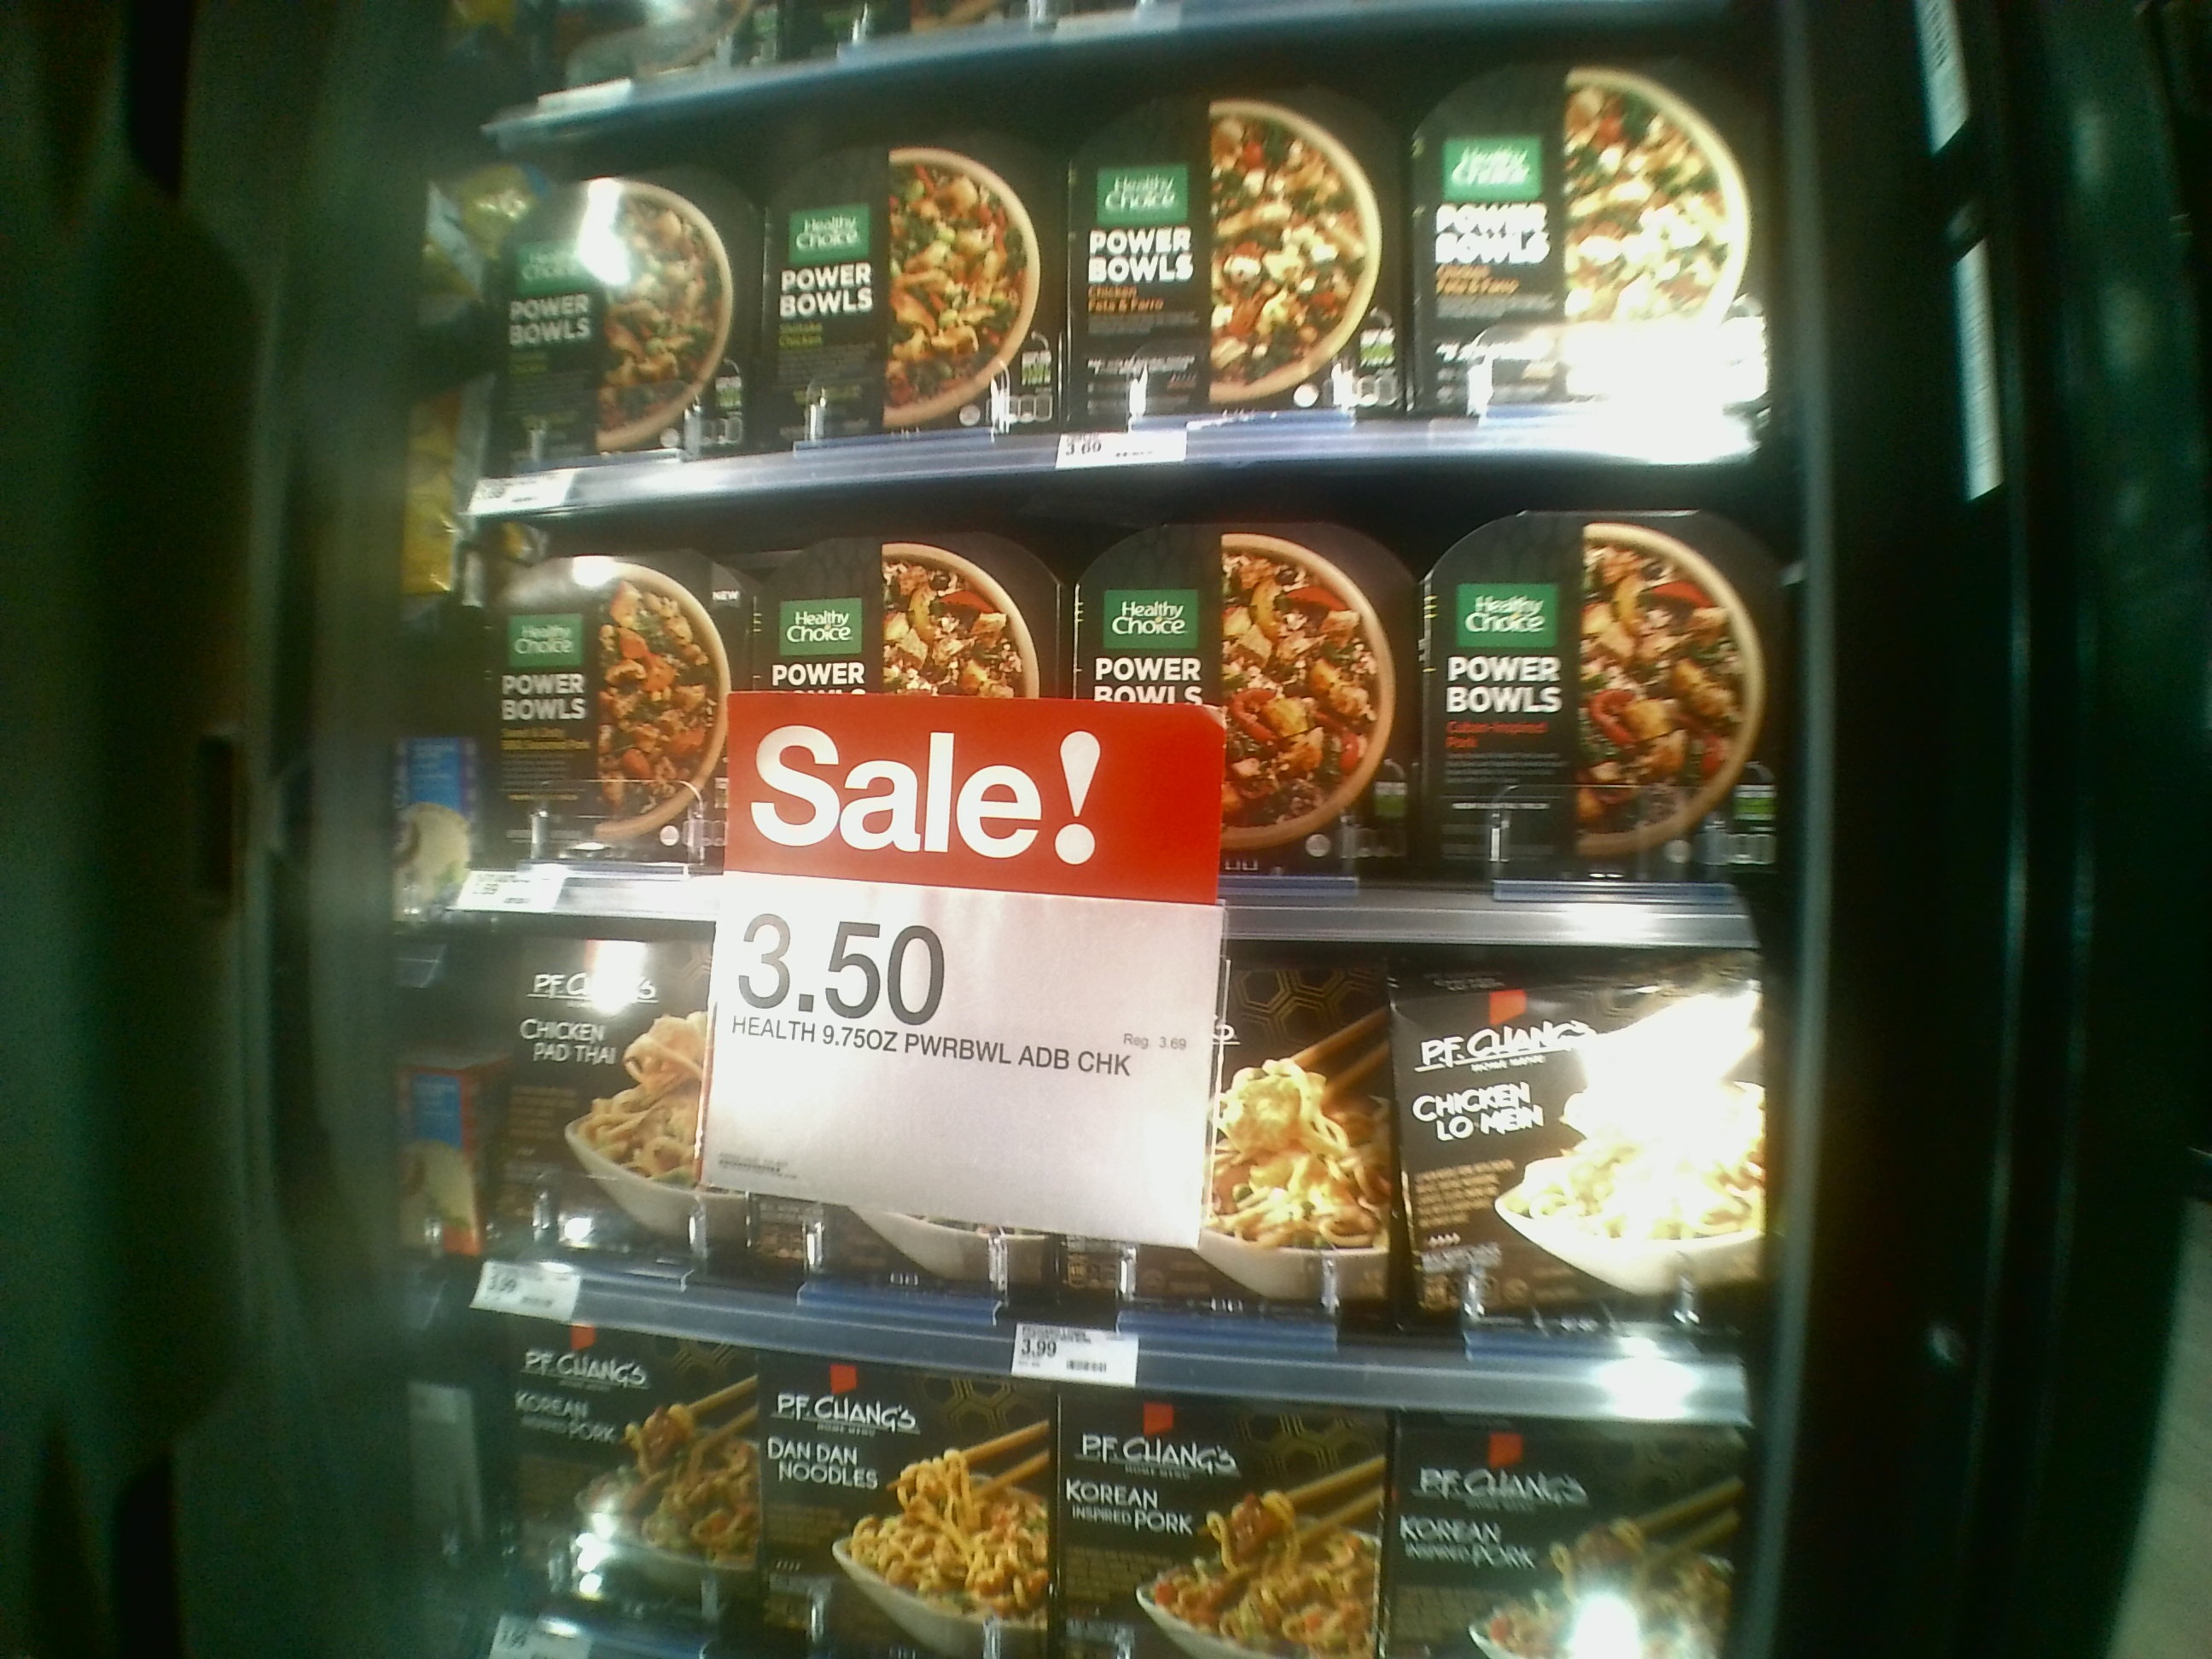shelf: (458, 913, 1745, 1410)
